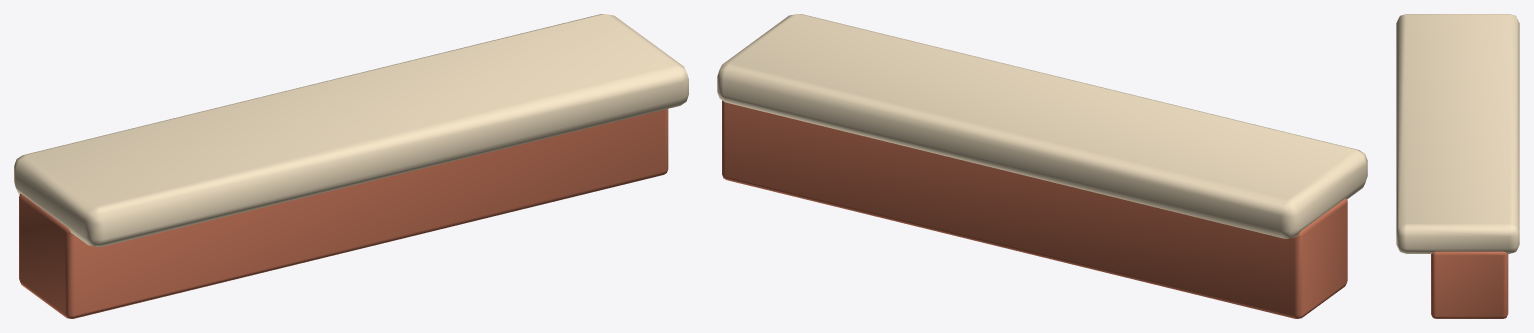
Rendered from RoofEdge2m.fbx.
The picture shows the model from 3 angles, left to right: view 1: azimuth 30°, elevation 25°; view 2: azimuth 150°, elevation 25°; view 3: azimuth 270°, elevation 25°; orthographic projection. The views are drawn at different scales.
Parts seen in each view (by area): view 1: RoofEdge2m_Trim, RoofEdge2m_Brick; view 2: RoofEdge2m_Trim, RoofEdge2m_Brick; view 3: RoofEdge2m_Trim, RoofEdge2m_Brick.
Boxes of the visible parts, <box> form: RoofEdge2m_Trim: <box>14,14,688,246</box>; RoofEdge2m_Brick: <box>19,109,668,318</box>; RoofEdge2m_Trim: <box>717,14,1367,238</box>; RoofEdge2m_Brick: <box>722,100,1347,318</box>; RoofEdge2m_Trim: <box>1396,14,1519,253</box>; RoofEdge2m_Brick: <box>1431,251,1508,318</box>.
Bounding box in the file's own units: 2 × 0.4 × 0.48.
